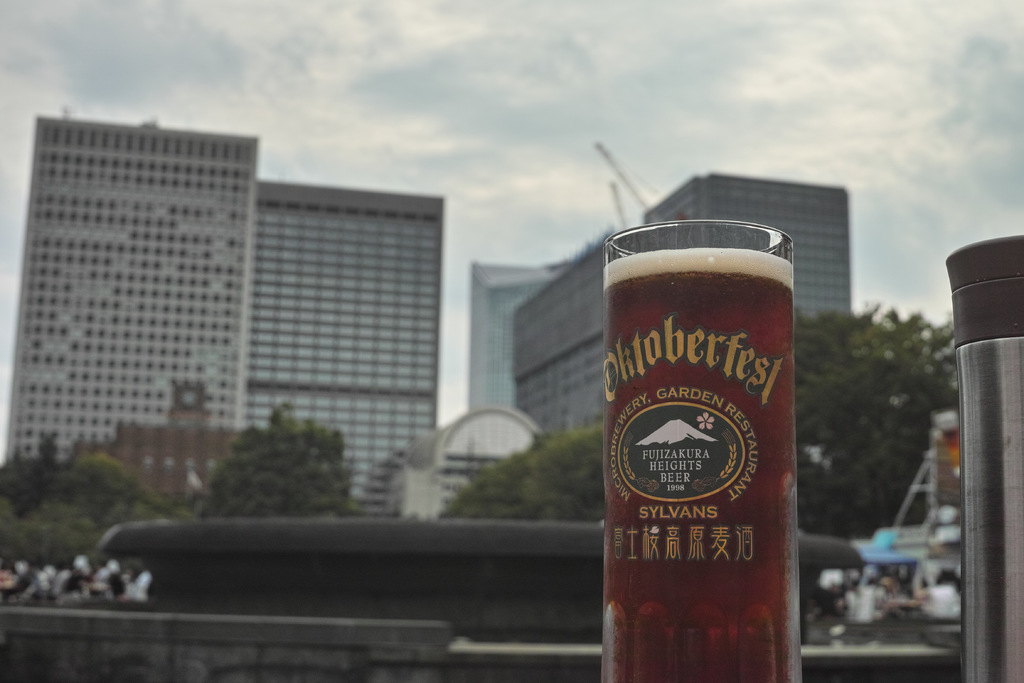Beer: (591, 217, 807, 682)
